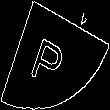P_NE: (34, 24, 76, 86)
